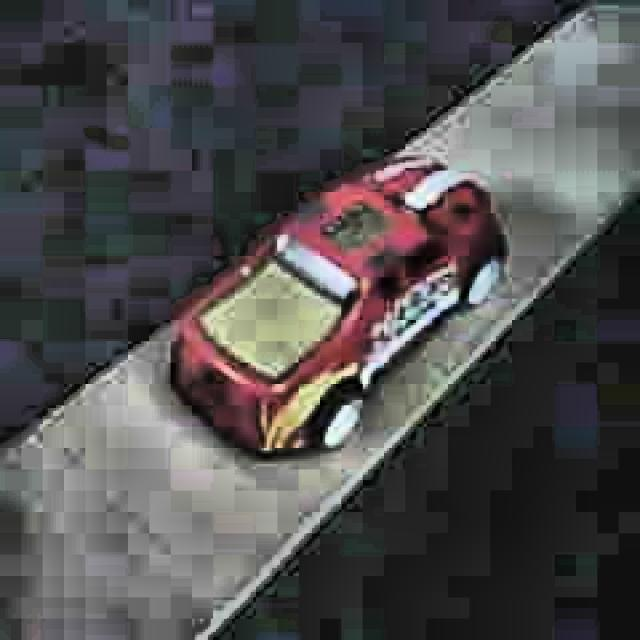car: (166, 152, 513, 466)
